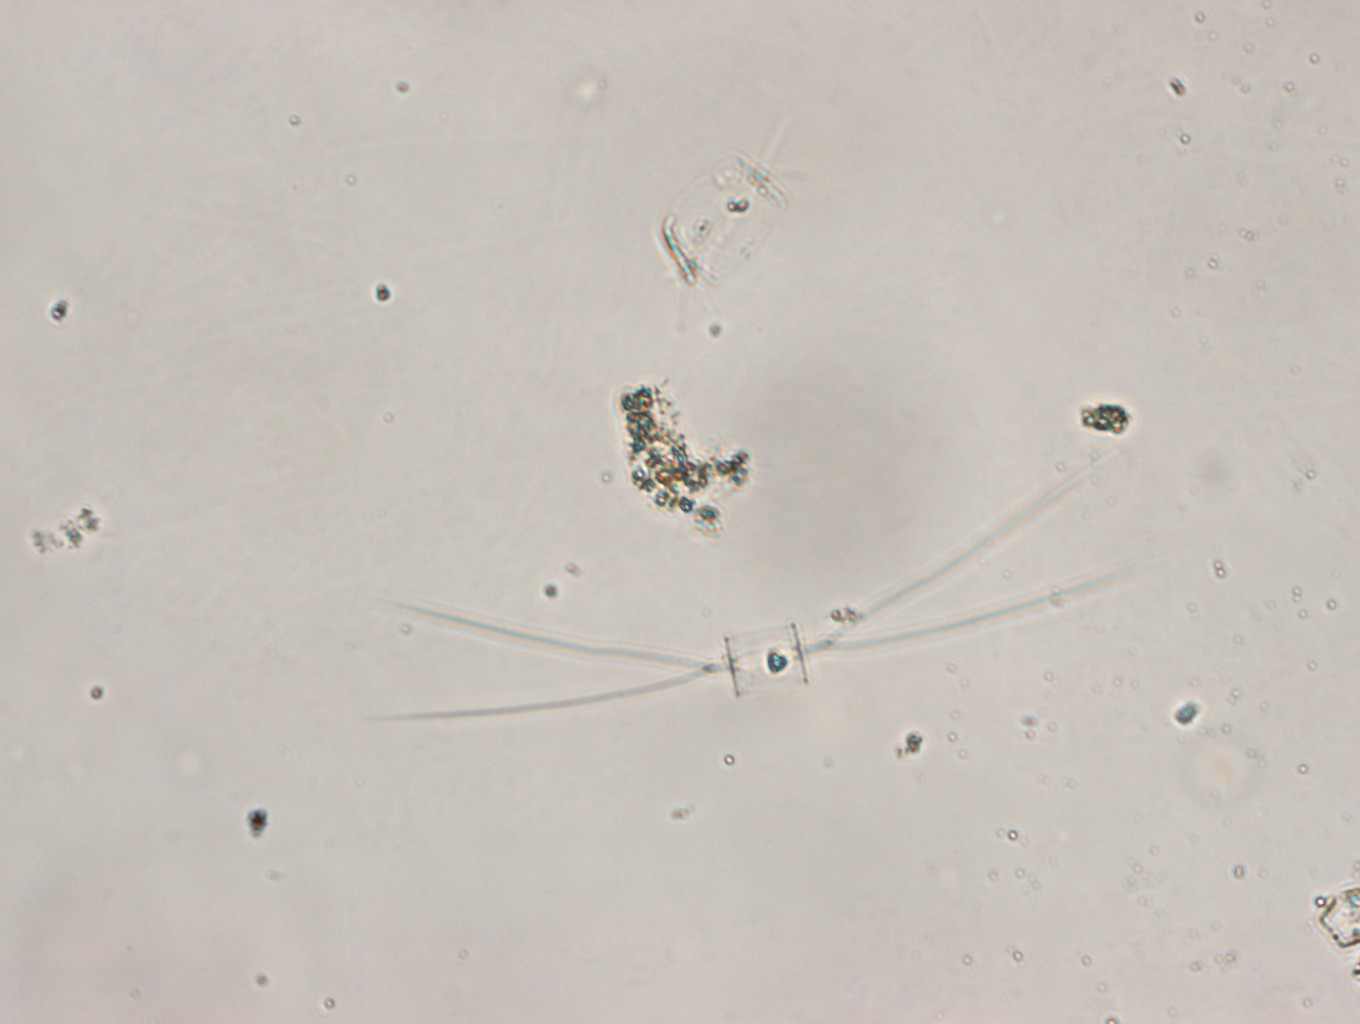chaetoceros: (374, 461, 1121, 725)
